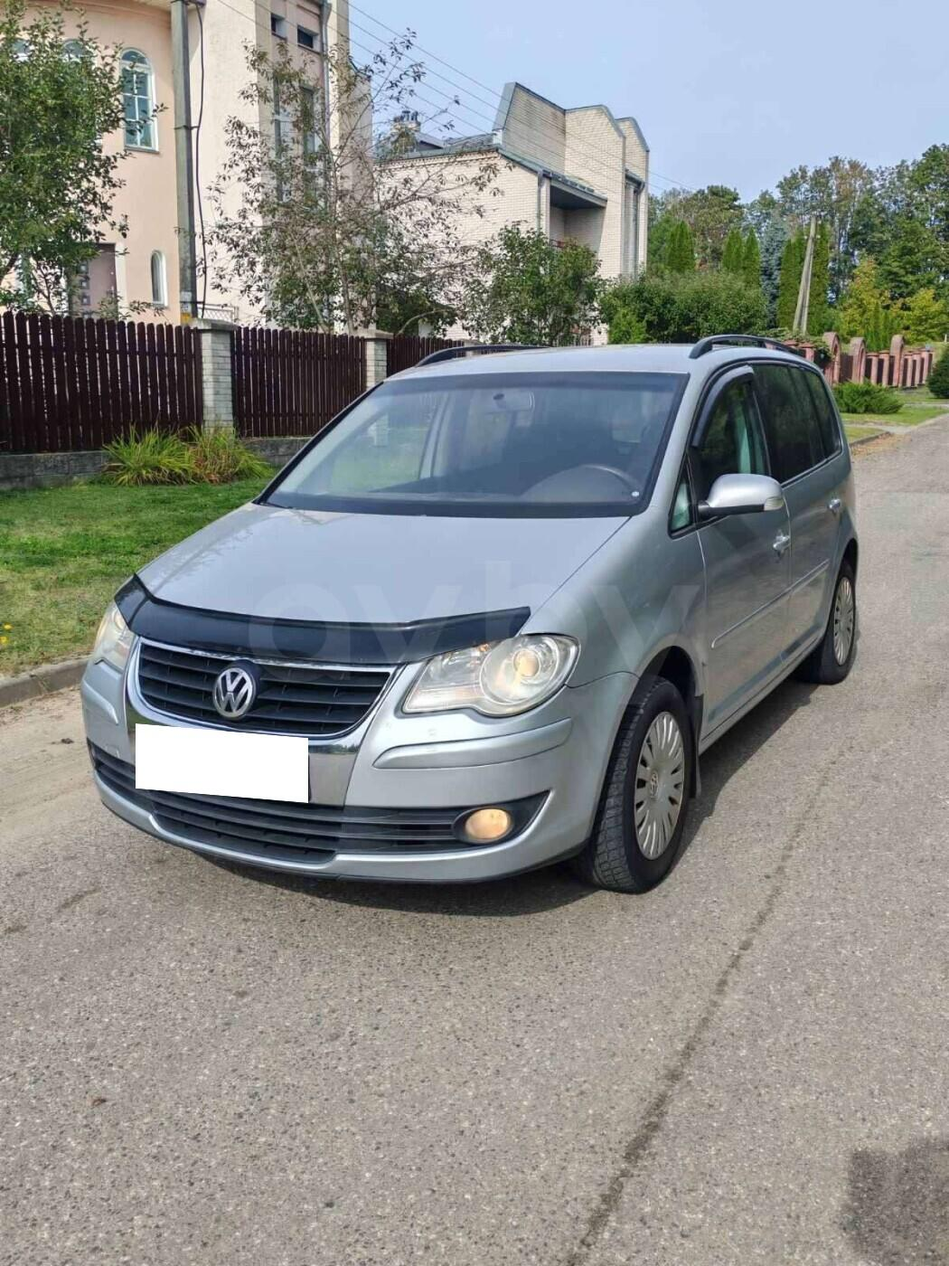Touran_2006-2010: (78, 336, 864, 904)
